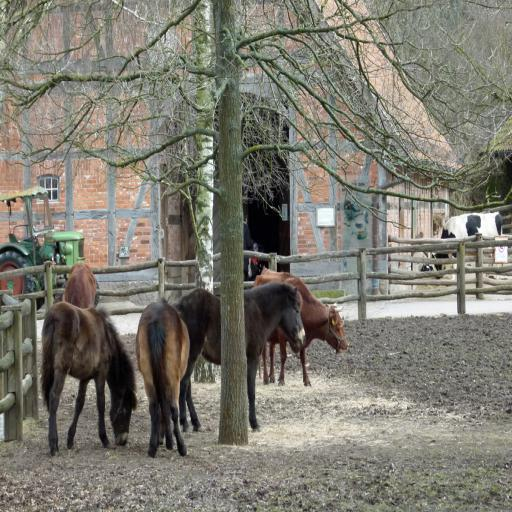horse: (176, 282, 306, 436), (38, 300, 138, 449), (136, 296, 191, 459), (65, 262, 96, 306)
